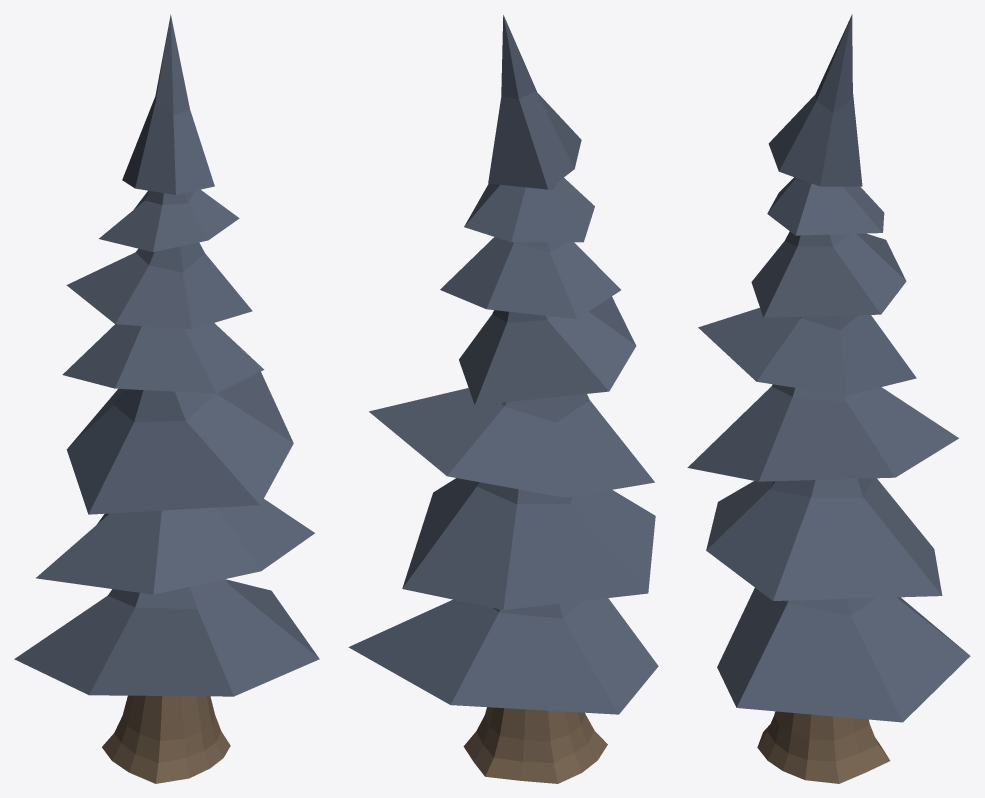
Rendered from P_fir_06_LD.fbx.
3 renders of one model, left to right at view 1: azimuth 30°, elevation 25°; view 2: azimuth 150°, elevation 25°; view 3: azimuth 270°, elevation 25°, orthographic. The views are drawn at different scales.
Parts seen in each view (by area): view 1: P_fir_06; view 2: P_fir_06; view 3: P_fir_06.
Part boxes in pixels (left/top/right/bottom): P_fir_06: left=14, top=14, right=319, bottom=783; P_fir_06: left=348, top=15, right=658, bottom=783; P_fir_06: left=687, top=14, right=970, bottom=783.
Size of the model in its own units: 345 by 908 by 312.
